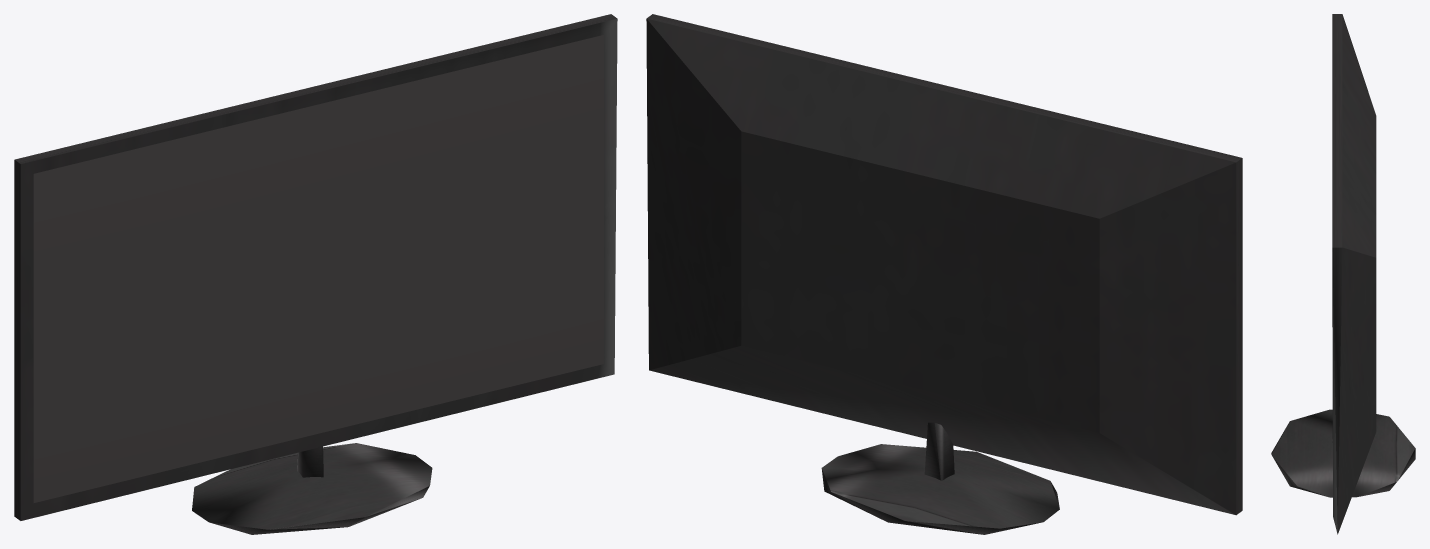
File: LCD_PC.fbx
3 renders of one model, left to right at view 1: azimuth 30°, elevation 25°; view 2: azimuth 150°, elevation 25°; view 3: azimuth 270°, elevation 25°, orthographic. The views are drawn at different scales.
Visible parts, largest first — view 1: LCD_PC; view 2: LCD_PC; view 3: LCD_PC.
Part boxes in pixels (x1,y1,x2,y2): LCD_PC: (14,14,617,534); LCD_PC: (646,14,1242,534); LCD_PC: (1271,14,1415,534).
Size of the model in its own units: 83.83 by 54.43 by 21.84.
